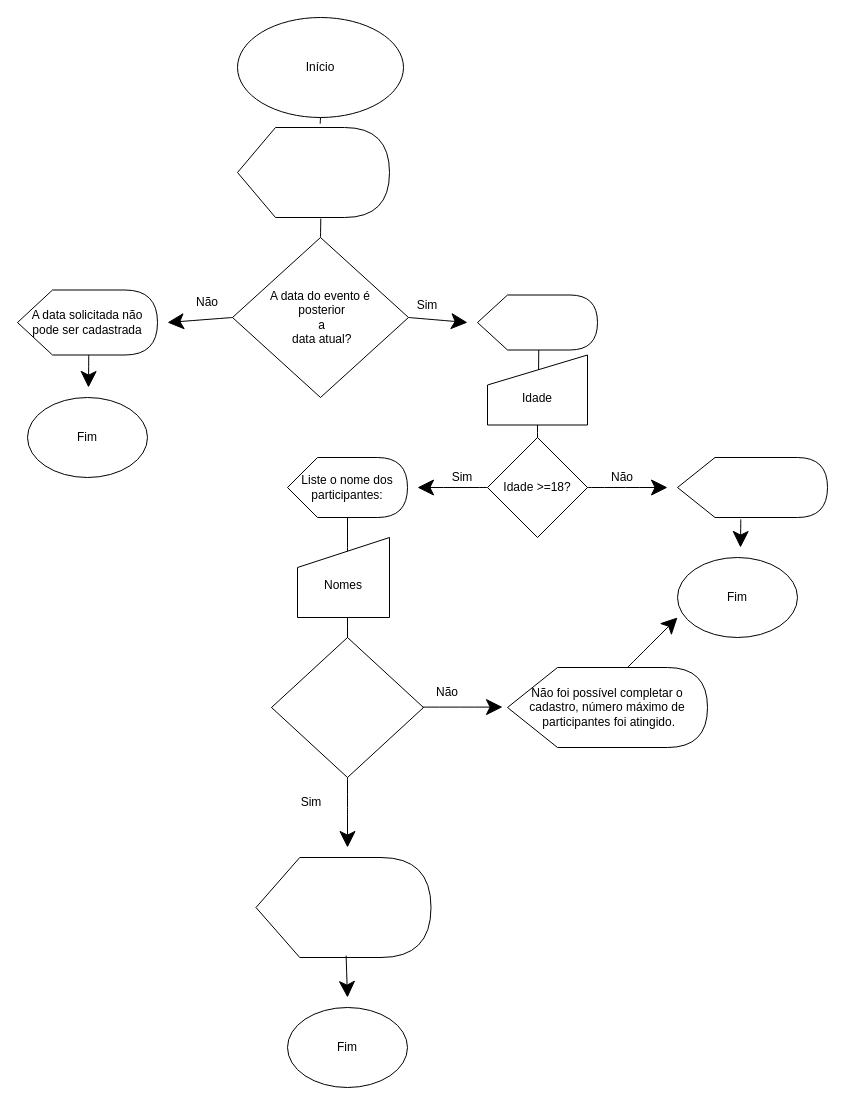
The diagram is 845 pixels wide and 1105 high, and some of its shapes have lost their labels. The centre of each missing label's shape, as x and y in pixels:
Informe a data do evento:: (x=313, y=172)
Informe sua idade:: (x=537, y=322)
nomesLista < 100?: (x=347, y=707)
Não foi possível completar o cadastro, idade inválida!: (x=752, y=487)
Seu evento foi cadastrado com sucesso!: (x=343, y=907)
